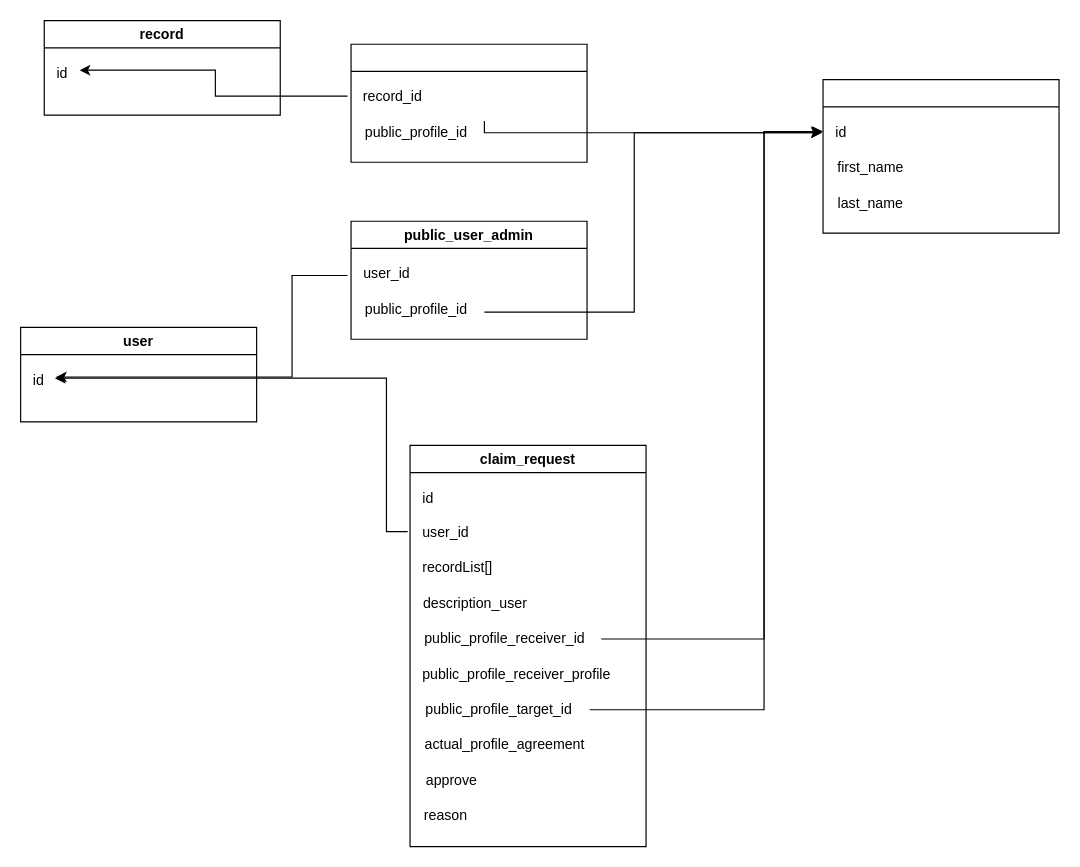
Image size: 1080x867. Some labels were removed from this diagram. The shapes that lost their labels are listed below. From the top down, each one's box as (x1, y1, x2, y2) in pixels, then its label:
(350, 43, 587, 162): profile_to_record_attribution
(822, 78, 1059, 233): public_profile
